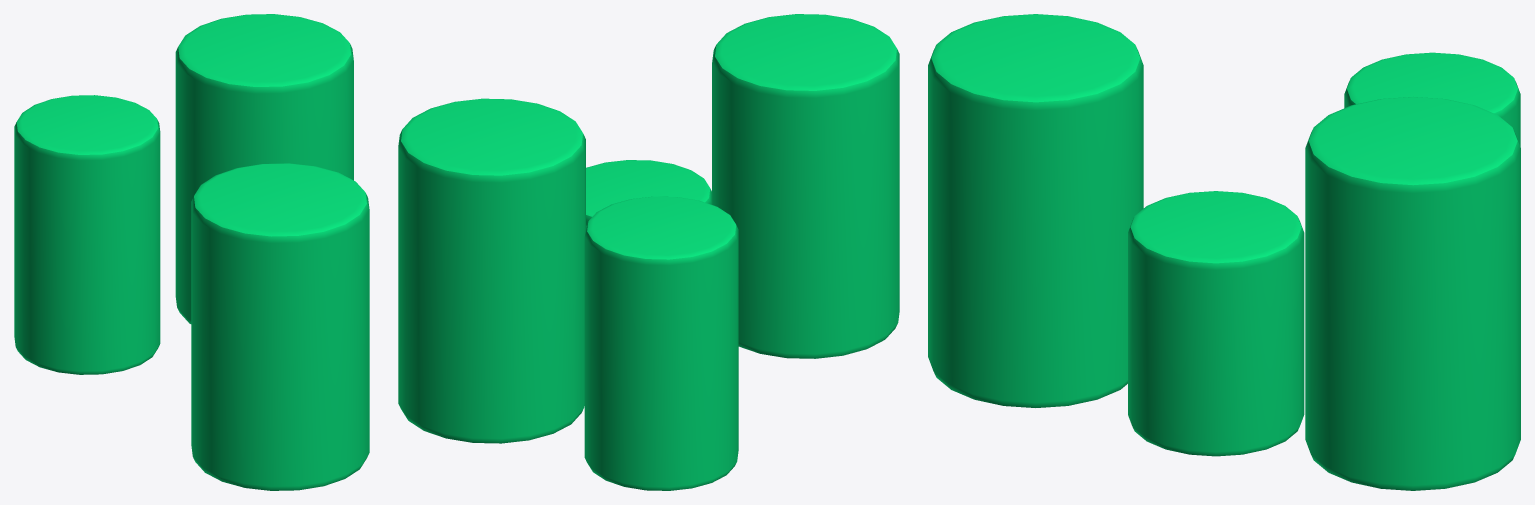
The model's file is uploads_files_2756006_Barrels_FBX.fbx.
The picture shows the model from 3 angles, left to right: view 1: azimuth 30°, elevation 25°; view 2: azimuth 150°, elevation 25°; view 3: azimuth 270°, elevation 25°; orthographic projection. The views are drawn at different scales.
Visible parts, largest first — view 1: Barrels; view 2: Barrels; view 3: Barrels.
Part boxes in pixels (x1,y1,x2,y2): Barrels: [14, 14, 369, 490]; Barrels: [398, 14, 899, 490]; Barrels: [928, 14, 1520, 490].
Size of the model in its own units: 132 by 107 by 182.
